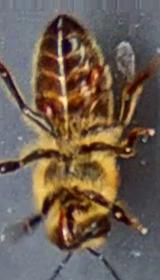varroa_mite: (35, 91, 79, 130), (80, 56, 112, 94)
